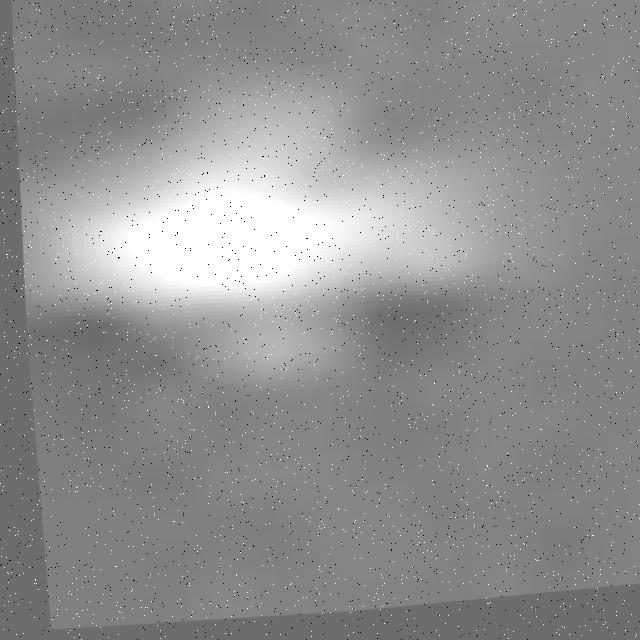person: (9, 90, 489, 375)
